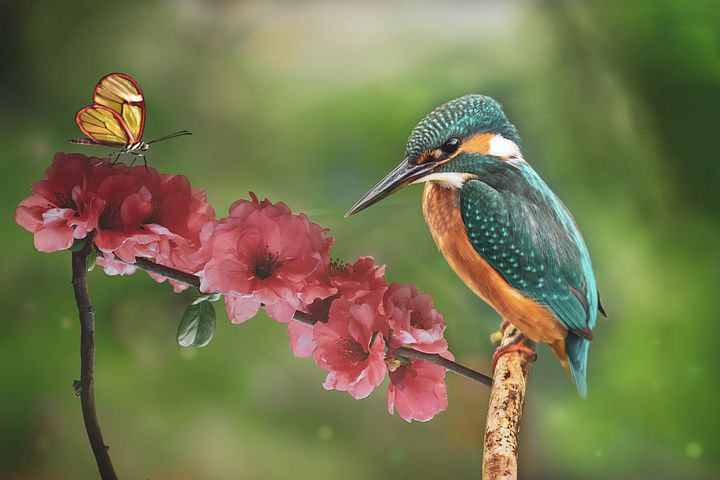kelebek: (67, 61, 198, 177)
